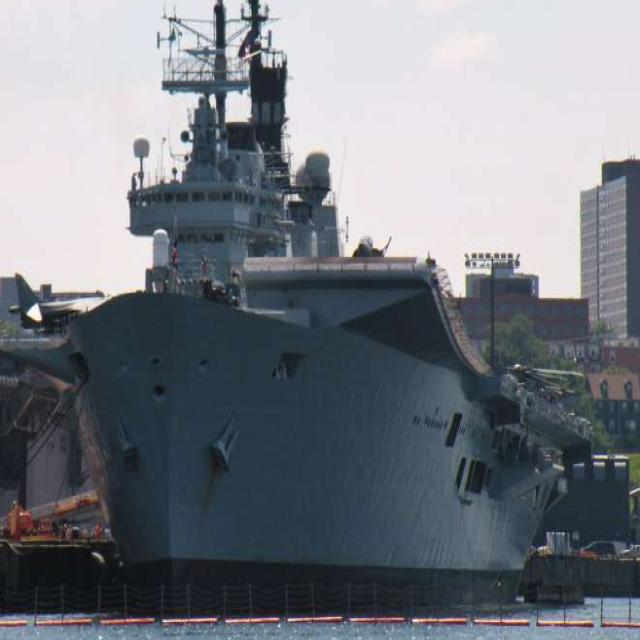Portanaves: (63, 1, 635, 620)
